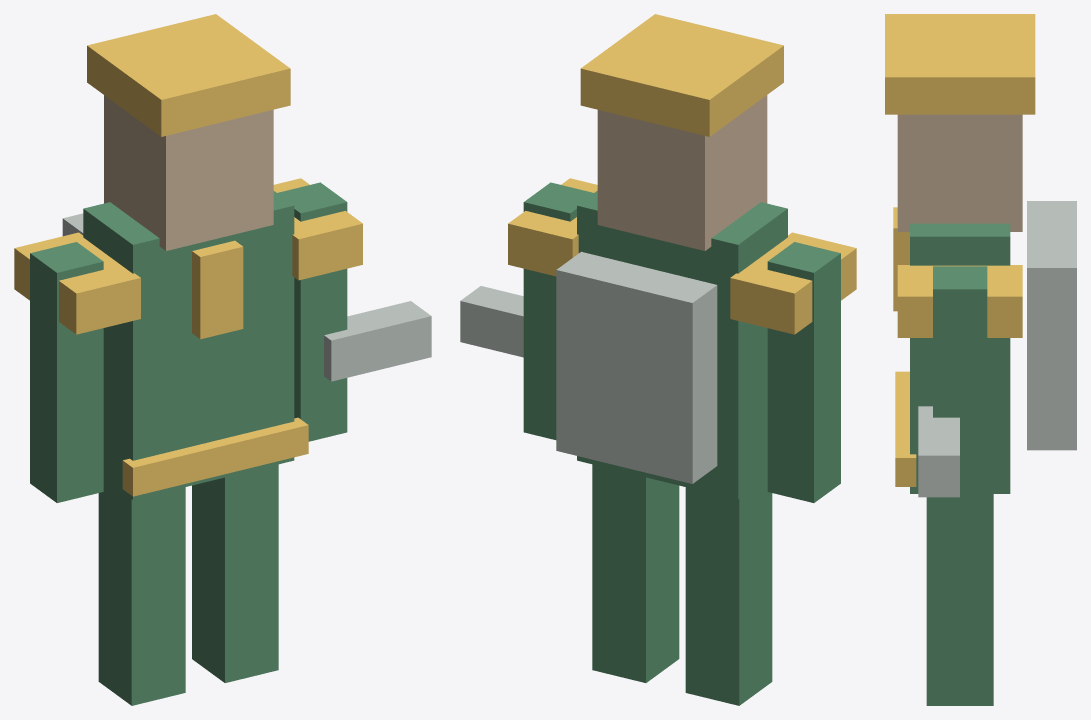
File: 08_brant_cinderholt_keeper_under_evolution.glb
3 renders of one model, left to right at view 1: azimuth 30°, elevation 25°; view 2: azimuth 150°, elevation 25°; view 3: azimuth 270°, elevation 25°, orthographic.
Visible parts, largest first — view 1: Brant Cinderholt, Keeper under Evolution; view 2: Brant Cinderholt, Keeper under Evolution; view 3: Brant Cinderholt, Keeper under Evolution.
Boxes of the visible parts, x1,y1,x2,y2 form: Brant Cinderholt, Keeper under Evolution: (14,14,431,705); Brant Cinderholt, Keeper under Evolution: (460,14,856,705); Brant Cinderholt, Keeper under Evolution: (885,14,1076,705).
Size of the model in its own units: 0.9662 by 1.56 by 0.4336.
